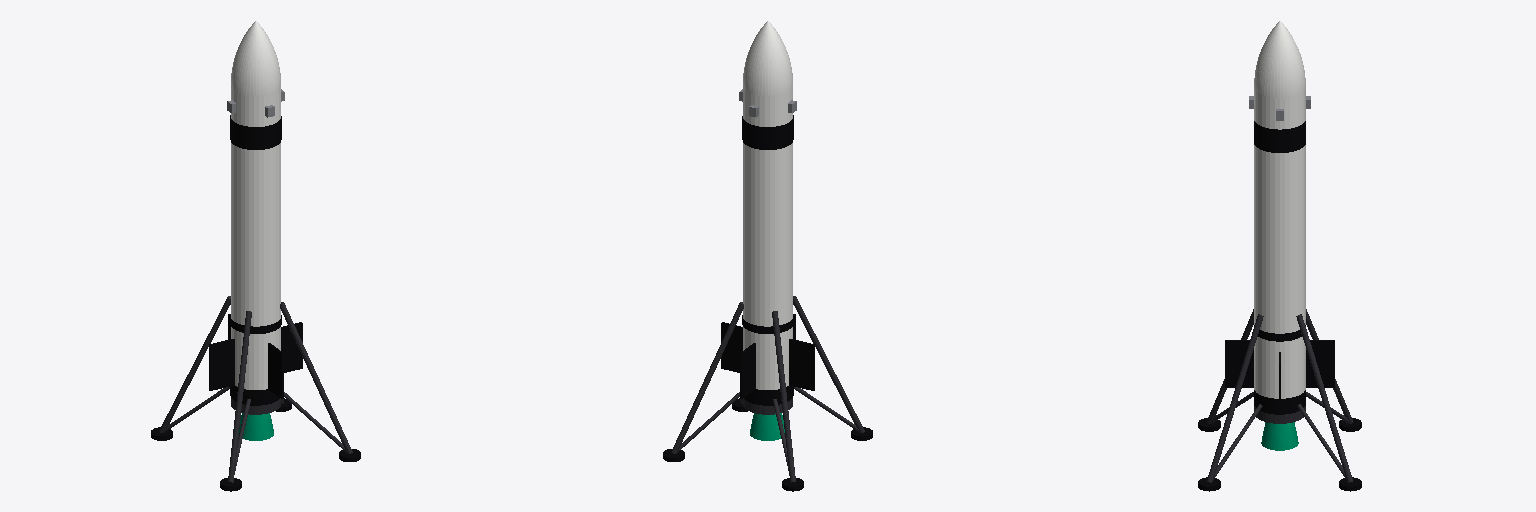
The robot description file, URDF, robot "rocket":
<?xml version="1.0"?>
<!--
  A single-engine rocket that takes off, flies and lands on its legs (raisim2Lib
  rocket_hop example). The engine hangs from a two-axis gimbal at the bottom of
  the tank; its thrust acts at the gimbal point along the nozzle. Four small
  thrusters at the top of the tank control the roll. Made for RaiSim; the meshes
  are generated surfaces of revolution.
-->
<robot name="rocket">
  <link name="body">
    <inertial>
      <origin xyz="0 0 1.8"/>
      <mass value="600"/>
      <inertia ixx="820" iyy="820" izz="28" ixy="0" ixz="0" iyz="0"/>
    </inertial>
    <visual>
      <origin xyz="0 0 2.135" rpy="0 0 0"/>
      <geometry><cylinder radius="0.3" length="4.03"/></geometry>
      <material name="white"><color rgba="0.93 0.93 0.92 1"/></material>
    </visual>
    <visual>
      <origin xyz="0 0 0.06" rpy="0 0 0"/>
      <geometry><cylinder radius="0.3" length="0.12"/></geometry>
      <material name="bay"><color rgba="0.22 0.22 0.24 1"/></material>
    </visual>
    <visual>
      <origin xyz="0 0 0.22" rpy="0 0 0"/>
      <geometry><cylinder radius="0.303" length="0.200"/></geometry>
      <material name="band"><color rgba="0.07 0.07 0.08 1"/></material>
    </visual>
    <visual>
      <origin xyz="0 0 1.1" rpy="0 0 0"/>
      <geometry><cylinder radius="0.303" length="0.100"/></geometry>
      <material name="band"><color rgba="0.07 0.07 0.08 1"/></material>
    </visual>
    <visual>
      <origin xyz="0 0 3.6" rpy="0 0 0"/>
      <geometry><cylinder radius="0.303" length="0.300"/></geometry>
      <material name="band"><color rgba="0.07 0.07 0.08 1"/></material>
    </visual>
    <visual>
      <origin xyz="0 0 4.15" rpy="0 0 0"/>
      <geometry><mesh filename="meshes/nose.obj"/></geometry>
      <material name="white"><color rgba="0.93 0.93 0.92 1"/></material>
    </visual>
    <visual>
      <origin xyz="0.46 0 0.62" rpy="0 0 0"/>
      <geometry><box size="0.34 0.025 0.6"/></geometry>
      <material name="fin"><color rgba="0.07 0.07 0.08 1"/></material>
    </visual>
    <visual>
      <origin xyz="2.817e-17 0.46 0.62" rpy="0 0 1.571"/>
      <geometry><box size="0.34 0.025 0.6"/></geometry>
      <material name="fin"><color rgba="0.07 0.07 0.08 1"/></material>
    </visual>
    <visual>
      <origin xyz="-0.46 5.633e-17 0.62" rpy="0 0 3.142"/>
      <geometry><box size="0.34 0.025 0.6"/></geometry>
      <material name="fin"><color rgba="0.07 0.07 0.08 1"/></material>
    </visual>
    <visual>
      <origin xyz="-8.45e-17 -0.46 0.62" rpy="0 0 4.712"/>
      <geometry><box size="0.34 0.025 0.6"/></geometry>
      <material name="fin"><color rgba="0.07 0.07 0.08 1"/></material>
    </visual>
    <visual>
      <origin xyz="0.5162 0.5162 0.425" rpy="0 2.715 0.7854"/>
      <geometry><cylinder radius="0.035" length="2.0318"/></geometry>
      <material name="leg"><color rgba="0.22 0.22 0.24 1"/></material>
    </visual>
    <visual>
      <origin xyz="0.5162 0.5162 -0.15" rpy="0 2.266 0.7854"/>
      <geometry><cylinder radius="0.025" length="1.0934"/></geometry>
      <material name="leg"><color rgba="0.22 0.22 0.24 1"/></material>
    </visual>
    <visual>
      <origin xyz="0.8132 0.8132 -0.53" rpy="0 0 0"/>
      <geometry><cylinder radius="0.13" length="0.06"/></geometry>
      <material name="pad"><color rgba="0.07 0.07 0.08 1"/></material>
    </visual>
    <collision>
      <origin xyz="0.8132 0.8132 -0.53" rpy="0 0 0"/>
      <geometry><cylinder radius="0.13" length="0.06"/></geometry>
    </collision>
    <visual>
      <origin xyz="-0.5162 0.5162 0.425" rpy="0 2.715 2.356"/>
      <geometry><cylinder radius="0.035" length="2.0318"/></geometry>
      <material name="leg"><color rgba="0.22 0.22 0.24 1"/></material>
    </visual>
    <visual>
      <origin xyz="-0.5162 0.5162 -0.15" rpy="0 2.266 2.356"/>
      <geometry><cylinder radius="0.025" length="1.0934"/></geometry>
      <material name="leg"><color rgba="0.22 0.22 0.24 1"/></material>
    </visual>
    <visual>
      <origin xyz="-0.8132 0.8132 -0.53" rpy="0 0 0"/>
      <geometry><cylinder radius="0.13" length="0.06"/></geometry>
      <material name="pad"><color rgba="0.07 0.07 0.08 1"/></material>
    </visual>
    <collision>
      <origin xyz="-0.8132 0.8132 -0.53" rpy="0 0 0"/>
      <geometry><cylinder radius="0.13" length="0.06"/></geometry>
    </collision>
    <visual>
      <origin xyz="-0.5162 -0.5162 0.425" rpy="0 2.715 3.927"/>
      <geometry><cylinder radius="0.035" length="2.0318"/></geometry>
      <material name="leg"><color rgba="0.22 0.22 0.24 1"/></material>
    </visual>
    <visual>
      <origin xyz="-0.5162 -0.5162 -0.15" rpy="0 2.266 3.927"/>
      <geometry><cylinder radius="0.025" length="1.0934"/></geometry>
      <material name="leg"><color rgba="0.22 0.22 0.24 1"/></material>
    </visual>
    <visual>
      <origin xyz="-0.8132 -0.8132 -0.53" rpy="0 0 0"/>
      <geometry><cylinder radius="0.13" length="0.06"/></geometry>
      <material name="pad"><color rgba="0.07 0.07 0.08 1"/></material>
    </visual>
    <collision>
      <origin xyz="-0.8132 -0.8132 -0.53" rpy="0 0 0"/>
      <geometry><cylinder radius="0.13" length="0.06"/></geometry>
    </collision>
    <visual>
      <origin xyz="0.5162 -0.5162 0.425" rpy="0 2.715 5.498"/>
      <geometry><cylinder radius="0.035" length="2.0318"/></geometry>
      <material name="leg"><color rgba="0.22 0.22 0.24 1"/></material>
    </visual>
    <visual>
      <origin xyz="0.5162 -0.5162 -0.15" rpy="0 2.266 5.498"/>
      <geometry><cylinder radius="0.025" length="1.0934"/></geometry>
      <material name="leg"><color rgba="0.22 0.22 0.24 1"/></material>
    </visual>
    <visual>
      <origin xyz="0.8132 -0.8132 -0.53" rpy="0 0 0"/>
      <geometry><cylinder radius="0.13" length="0.06"/></geometry>
      <material name="pad"><color rgba="0.07 0.07 0.08 1"/></material>
    </visual>
    <collision>
      <origin xyz="0.8132 -0.8132 -0.53" rpy="0 0 0"/>
      <geometry><cylinder radius="0.13" length="0.06"/></geometry>
    </collision>
    <collision>
      <origin xyz="0 0 2.075" rpy="0 0 0"/>
      <geometry><cylinder radius="0.3" length="4.15"/></geometry>
    </collision>
    <collision>
      <origin xyz="0 0 4.25" rpy="0 0 0"/>
      <geometry><sphere radius="0.3"/></geometry>
    </collision>
    <visual>
      <origin xyz="0.32 0 3.95" rpy="0 0 0"/>
      <geometry><box size="0.08 0.1 0.12"/></geometry>
      <material name="pod"><color rgba="0.55 0.56 0.58 1"/></material>
    </visual>
    <visual>
      <origin xyz="1.959e-17 0.32 3.95" rpy="0 0 1.571"/>
      <geometry><box size="0.08 0.1 0.12"/></geometry>
      <material name="pod"><color rgba="0.55 0.56 0.58 1"/></material>
    </visual>
    <visual>
      <origin xyz="-0.32 3.919e-17 3.95" rpy="0 0 3.142"/>
      <geometry><box size="0.08 0.1 0.12"/></geometry>
      <material name="pod"><color rgba="0.55 0.56 0.58 1"/></material>
    </visual>
    <visual>
      <origin xyz="-5.878e-17 -0.32 3.95" rpy="0 0 4.712"/>
      <geometry><box size="0.08 0.1 0.12"/></geometry>
      <material name="pod"><color rgba="0.55 0.56 0.58 1"/></material>
    </visual>
  </link>
  <joint name="gimbal_x" type="revolute">
    <parent link="body"/>
    <child link="gimbal_ring"/>
    <origin xyz="0 0 0.12"/>
    <axis xyz="1 0 0"/>
    <limit lower="-0.15" upper="0.15" effort="20000" velocity="3"/>
  </joint>
  <link name="gimbal_ring">
    <inertial>
      <mass value="2"/>
      <inertia ixx="0.02" iyy="0.02" izz="0.04" ixy="0" ixz="0" iyz="0"/>
    </inertial>
  </link>
  <joint name="gimbal_y" type="revolute">
    <parent link="gimbal_ring"/>
    <child link="engine"/>
    <axis xyz="0 1 0"/>
    <limit lower="-0.15" upper="0.15" effort="20000" velocity="3"/>
  </joint>
  <link name="engine">
    <inertial>
      <origin xyz="0 0 -0.12"/>
      <mass value="25"/>
      <inertia ixx="0.6" iyy="0.6" izz="0.25" ixy="0" ixz="0" iyz="0"/>
    </inertial>
    <visual>
      <origin xyz="0 0 0.08"/>
      <geometry><cylinder radius="0.1" length="0.16"/></geometry>
      <material name="chamber"><color rgba="0.22 0.22 0.24 1"/></material>
    </visual>
    <visual>
      <geometry><mesh filename="meshes/nozzle.obj"/></geometry>
    </visual>
  </link>
  <thruster name="main_engine" link="engine" torque_coefficient="0.002">
    <origin xyz="0 0 0"/>
    <axis xyz="0 0 1"/>
    <limit lower="0" upper="12000"/>
  </thruster>
  <thruster name="rcs_roll_left_0" link="body">
    <origin xyz="0.36 0 3.95"/>
    <axis xyz="0 1 0"/>
    <limit lower="0" upper="60"/>
  </thruster>
  <thruster name="rcs_roll_right_0" link="body">
    <origin xyz="0 0.36 3.95"/>
    <axis xyz="1 0 0"/>
    <limit lower="0" upper="60"/>
  </thruster>
  <thruster name="rcs_roll_left_1" link="body">
    <origin xyz="-0.36 0 3.95"/>
    <axis xyz="0 -1 0"/>
    <limit lower="0" upper="60"/>
  </thruster>
  <thruster name="rcs_roll_right_1" link="body">
    <origin xyz="0 -0.36 3.95"/>
    <axis xyz="-1 0 0"/>
    <limit lower="0" upper="60"/>
  </thruster>
</robot>

--- What the picture shows (computed from the rendered views, not written in the file) ---
3 views of the same robot in one strip: view 1: azimuth 30°, elevation 25°; view 2: azimuth 150°, elevation 25°; view 3: azimuth 270°, elevation 25° (orthographic).
Robot: rocket — 3 links, 2 joints (2 revolute); root link body; default pose: every joint at zero.
Visible links, largest first — view 1: body, engine; view 2: body, engine; view 3: body, engine.
Boxes of the visible links, x1,y1,x2,y2 form: body: (151, 21, 360, 491); engine: (239, 413, 273, 440); body: (663, 21, 872, 491); engine: (750, 413, 784, 440); body: (1198, 21, 1361, 491); engine: (1261, 422, 1298, 450).
Size in the robot's own frame: 1.89 by 1.89 by 5.56 metres.
Meshes: 2 distinct files referenced, 2 mesh visuals loaded (2 OBJ).
